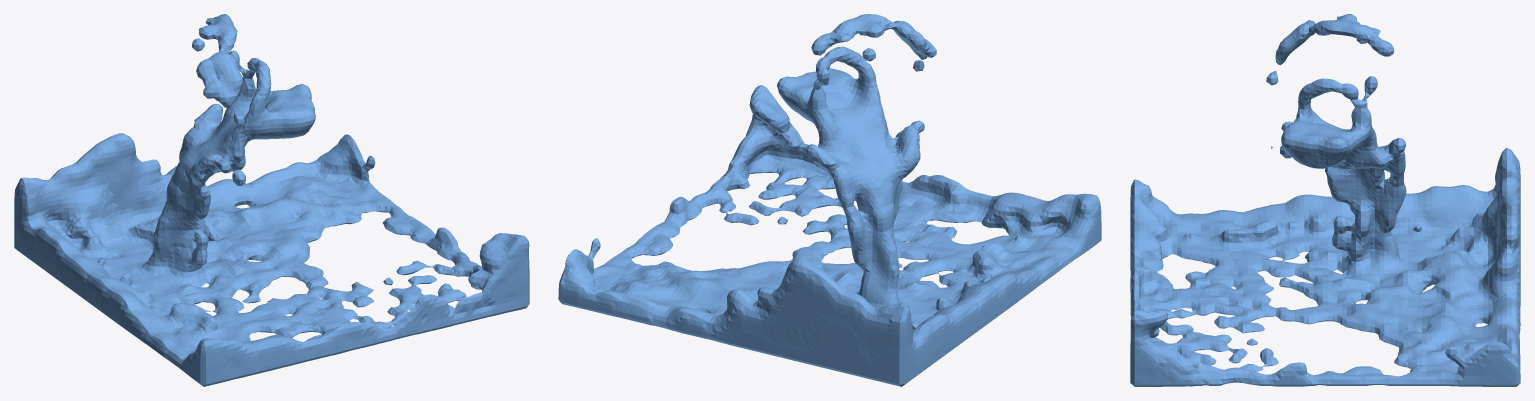
Rendered from water_0073.glb.
3 renders of one model, left to right at view 1: azimuth 30°, elevation 25°; view 2: azimuth 150°, elevation 25°; view 3: azimuth 270°, elevation 25°, orthographic. The views are drawn at different scales.
Parts seen in each view (by area): view 1: Water_0073; view 2: Water_0073; view 3: Water_0073.
Boxes of the visible parts, x1,y1,x2,y2 form: Water_0073: (14, 14, 529, 386); Water_0073: (558, 14, 1101, 386); Water_0073: (1130, 14, 1520, 386).
Size of the model in its own units: 4.83 by 3.63 by 4.83.
